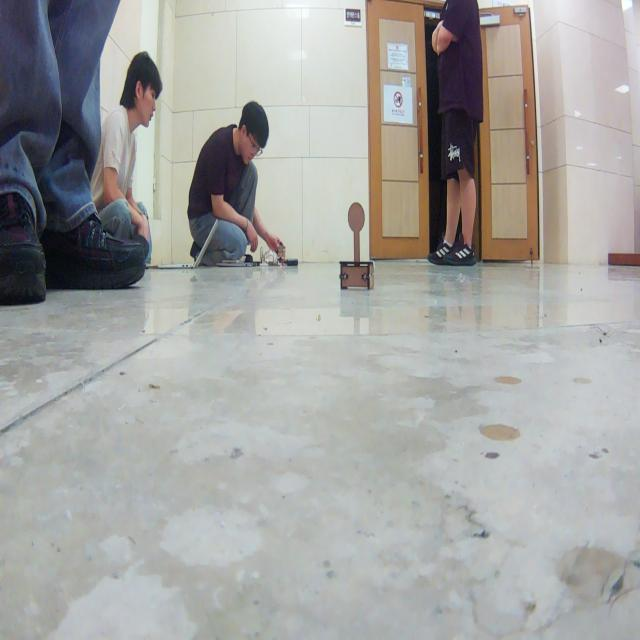target: (340, 202, 374, 290)
